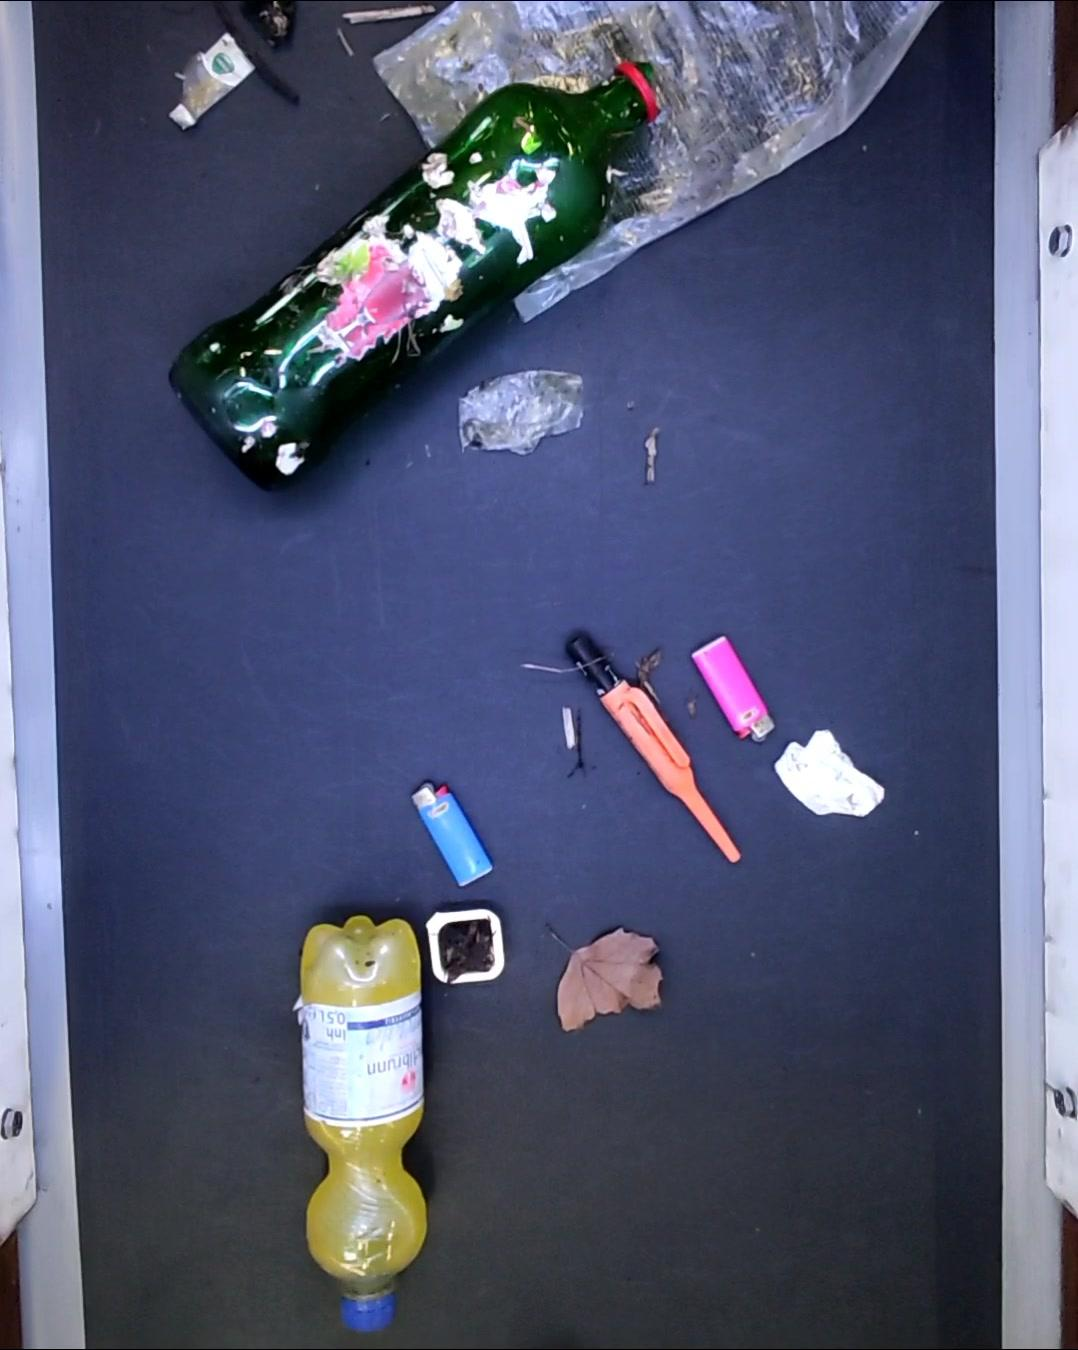Drankflessen - 1-2 liter: (293, 913, 427, 1332)
Plastic folies of stukken daarvan 2.5- 50 cm: (372, 2, 939, 330), (461, 364, 593, 457), (161, 32, 258, 132)
Voedselverpakkingen: (420, 904, 514, 985)
